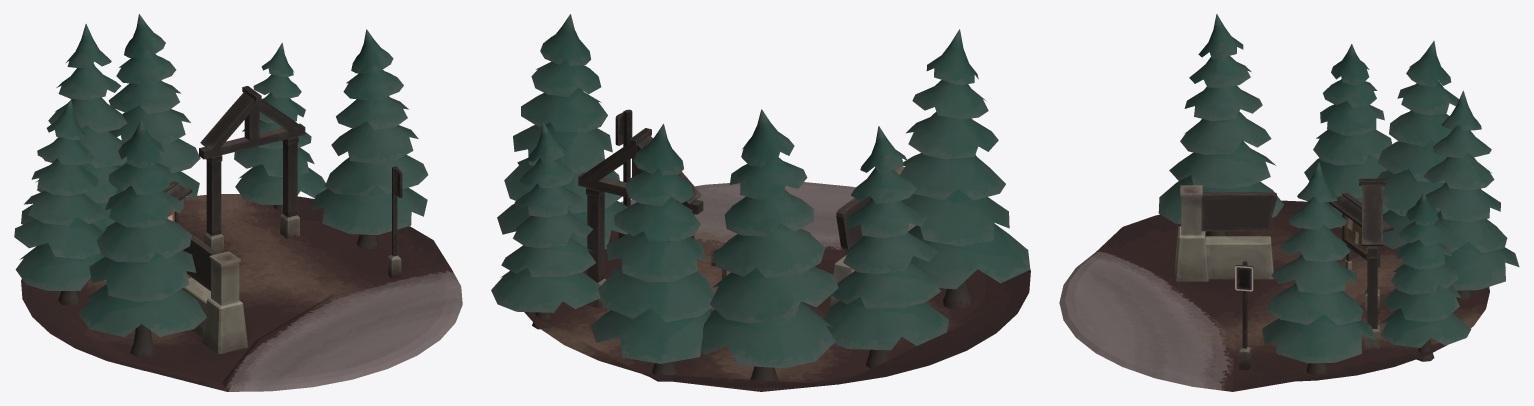
Rendered from Forest Park Assets.fbx.
The picture shows the model from 3 angles, left to right: view 1: azimuth 30°, elevation 25°; view 2: azimuth 150°, elevation 25°; view 3: azimuth 270°, elevation 25°; orthographic projection. The views are drawn at different scales.
Parts seen in each view (by area): view 1: Base, Pine Tree.001, Pine Tree.002, Pine Tree, Pine Tree.003, Archway, Pine Tree.004, Pine Tree.005, Big Sign, Empty Sign, Sign Board; view 2: Base, Pine Tree.004, Pine Tree.001, Pine Tree.003, Pine Tree, Pine Tree.002, Pine Tree.005, Archway, Big Sign, Empty Sign; view 3: Base, Pine Tree.002, Pine Tree.001, Pine Tree.003, Pine Tree.005, Big Sign, Pine Tree.004, Pine Tree, Archway, Sign Board, Empty Sign.
Part boxes in pixels (left/top/right/bottom): Base: left=21, top=194, right=462, bottom=391; Pine Tree.001: left=78, top=119, right=206, bottom=356; Pine Tree.002: left=311, top=29, right=428, bottom=249; Pine Tree: left=14, top=100, right=106, bottom=306; Pine Tree.003: left=108, top=14, right=200, bottom=209; Archway: left=199, top=86, right=305, bottom=253; Pine Tree.004: left=21, top=24, right=127, bottom=231; Pine Tree.005: left=234, top=42, right=327, bottom=210; Big Sign: left=182, top=230, right=247, bottom=353; Empty Sign: left=388, top=166, right=402, bottom=278; Sign Board: left=163, top=181, right=192, bottom=223; Base: left=524, top=182, right=1030, bottom=391; Pine Tree.004: left=700, top=109, right=838, bottom=381; Pine Tree.001: left=899, top=29, right=1030, bottom=309; Pine Tree.003: left=590, top=124, right=713, bottom=381; Pine Tree: left=822, top=126, right=948, bottom=368; Pine Tree.002: left=497, top=14, right=627, bottom=249; Pine Tree.005: left=491, top=122, right=600, bottom=329; Archway: left=578, top=128, right=703, bottom=307; Big Sign: left=830, top=166, right=913, bottom=305; Empty Sign: left=615, top=109, right=632, bottom=238; Base: left=1059, top=200, right=1489, bottom=391; Pine Tree.002: left=1262, top=162, right=1375, bottom=375; Pine Tree.001: left=1158, top=14, right=1283, bottom=236; Pine Tree.003: left=1416, top=90, right=1519, bottom=300; Pine Tree.005: left=1380, top=191, right=1471, bottom=361; Big Sign: left=1174, top=185, right=1276, bottom=281; Pine Tree.004: left=1377, top=41, right=1459, bottom=249; Pine Tree: left=1304, top=44, right=1391, bottom=227; Archway: left=1359, top=178, right=1385, bottom=349; Sign Board: left=1329, top=192, right=1393, bottom=270; Empty Sign: left=1235, top=261, right=1253, bottom=369.
Size of the model in its own units: 1437 by 834 by 1491.
7 materials, 7 textured.
